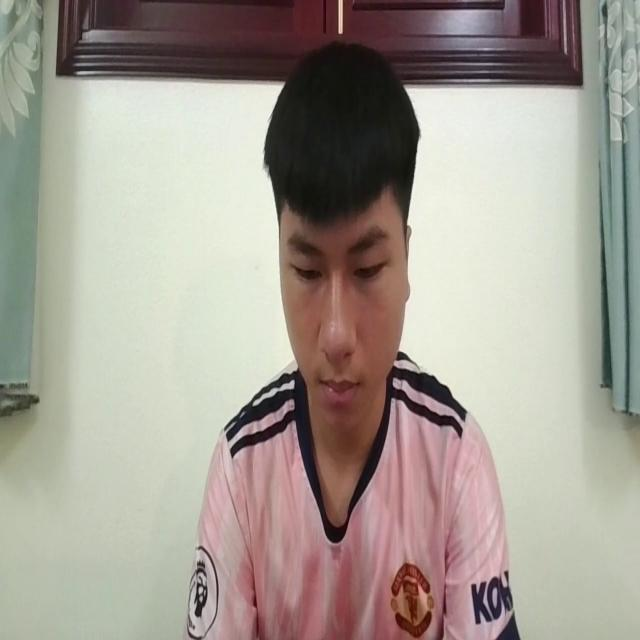student: (191, 31, 516, 640)
